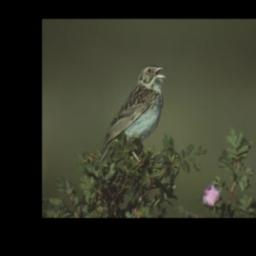Sparrow: (94, 58, 167, 175)
